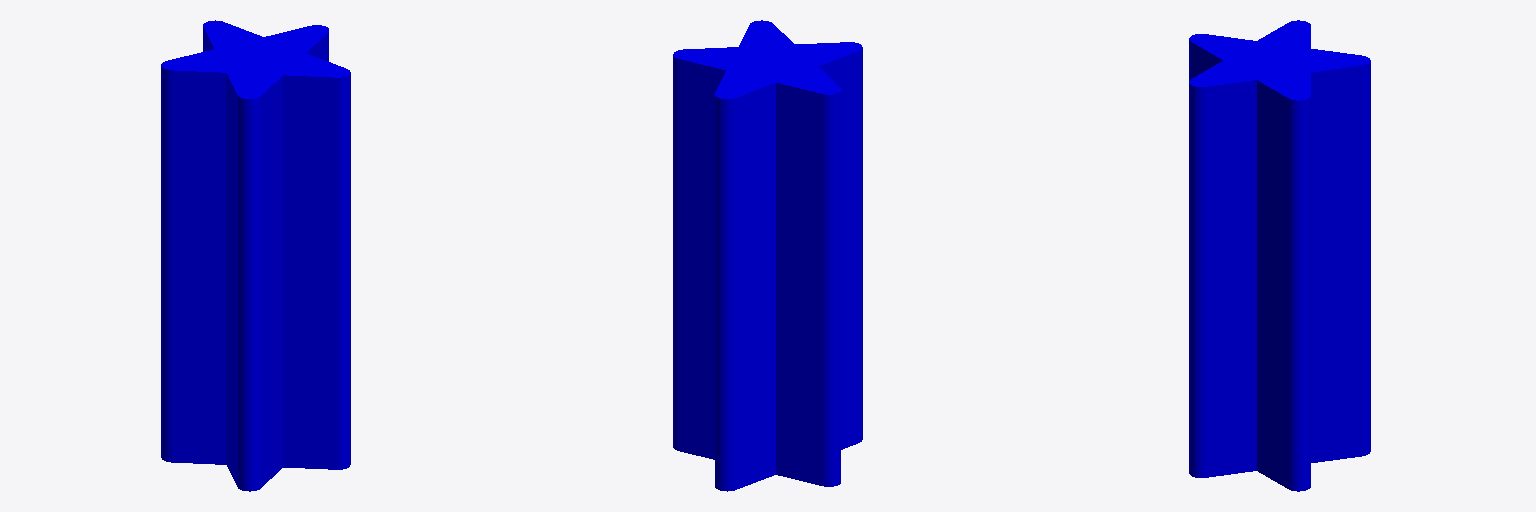
URDF robot description (board2_block9):
<?xml version="1.0"?>
<robot name="board2_block9">
    <link name="board2_block9">
        <visual>
            <origin xyz="0 0 0 " rpy=" 0 0 0"/>
            <geometry>
                <mesh filename="../meshes/SIMO_Board2_Block9.stl" scale="0.001 0.001 0.001"/>
            </geometry>
            <material name="red">
                <color rgba="0.0 0.0 1.0 1.0"/>
            </material>
        </visual>
        <collision>
            <origin xyz="0 0 0" rpy="0 0 0"/>
            <geometry>
                <mesh filename="../meshes/SIMO_Board2_Block9.stl" scale="0.001 0.001 0.001"/>
            </geometry>
        </collision>
    </link>
</robot>

--- Render facts (derived) ---
3 views of the same robot in one strip: view 1: azimuth 30°, elevation 25°; view 2: azimuth 150°, elevation 25°; view 3: azimuth 270°, elevation 25° (orthographic).
Robot: board2_block9 — 1 links, 0 joints (none); root link board2_block9; default pose: every joint at zero.
Links seen in each view (by area): view 1: board2_block9; view 2: board2_block9; view 3: board2_block9.
Boxes of the visible links, bbox=[...] form: board2_block9: bbox=[161, 20, 350, 491]; board2_block9: bbox=[673, 20, 862, 491]; board2_block9: bbox=[1189, 20, 1370, 491].
Size in the robot's own frame: 0.0439 by 0.0421 by 0.1 metres.
Meshes: 1 distinct files referenced, 1 mesh visuals loaded (1 ASCII STL).
